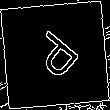P_SE: (24, 24, 86, 86)
